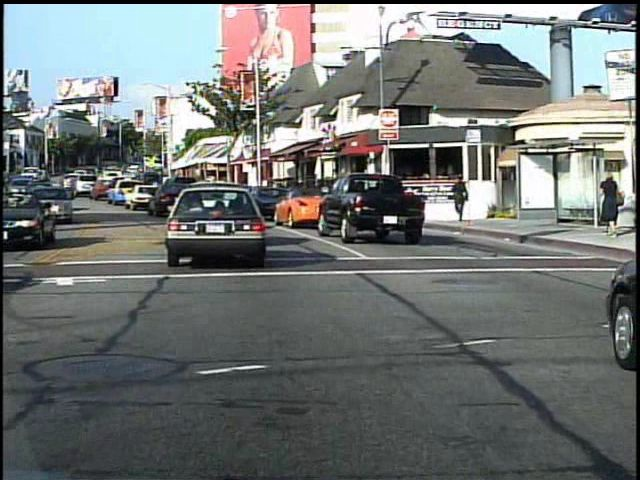person: (594, 166, 623, 239), (449, 178, 466, 230)
